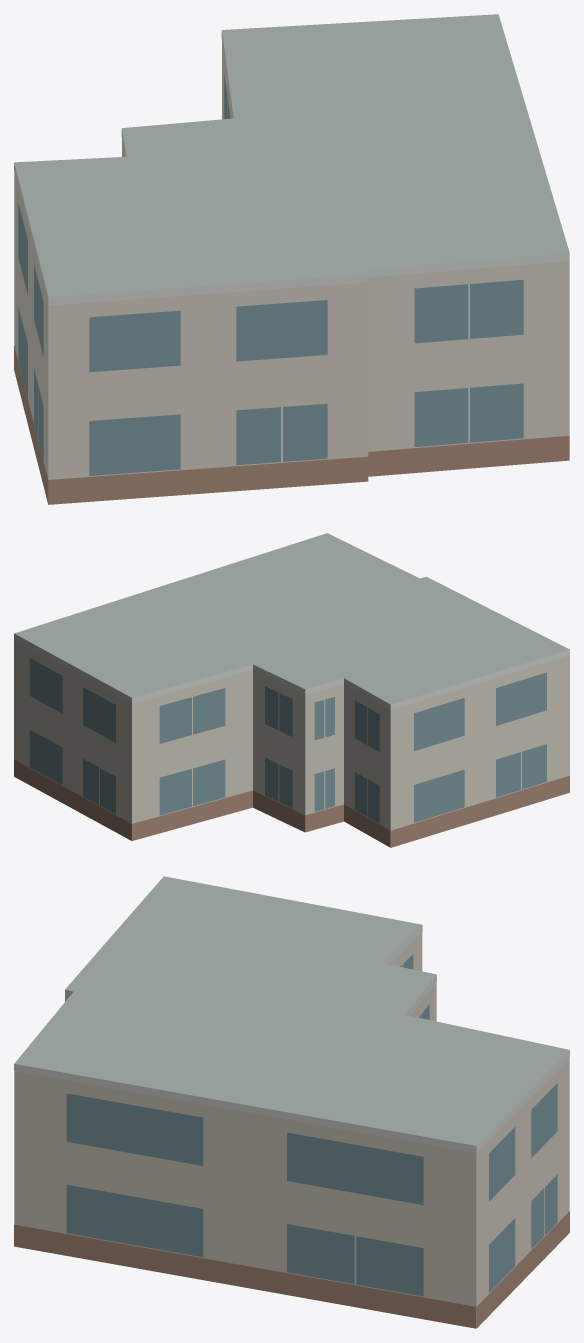
Rendered from survey-upis-32820240.glb.
3 renders of one model, top to bottom at view 1: azimuth 30°, elevation 25°; view 2: azimuth 150°, elevation 25°; view 3: azimuth 270°, elevation 25°, orthographic. The views are drawn at different scales.
Parts seen in each view (by area): view 1: survey-upis-32820240.tmp; view 2: survey-upis-32820240.tmp; view 3: survey-upis-32820240.tmp.
Part boxes in pixels (x1,y1,x2,y2): survey-upis-32820240.tmp: [14, 14, 569, 504]; survey-upis-32820240.tmp: [14, 533, 569, 847]; survey-upis-32820240.tmp: [14, 876, 569, 1328].
Size of the model in its own units: 19.33 by 6.1 by 16.83.
